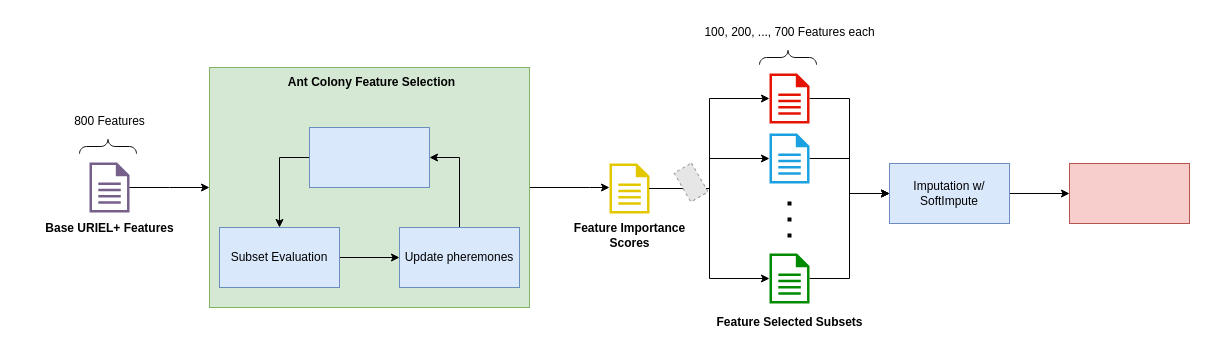
This 1207x354 diagram has some shape labels left out. Grey dashed boxes stand in for pictures. The box of each missing label's shape, as (x1, y1, x2, y2) in pixels:
Ants create subset based on pheremones: (308, 126, 430, 188)
Evaluation: (1068, 162, 1190, 224)
